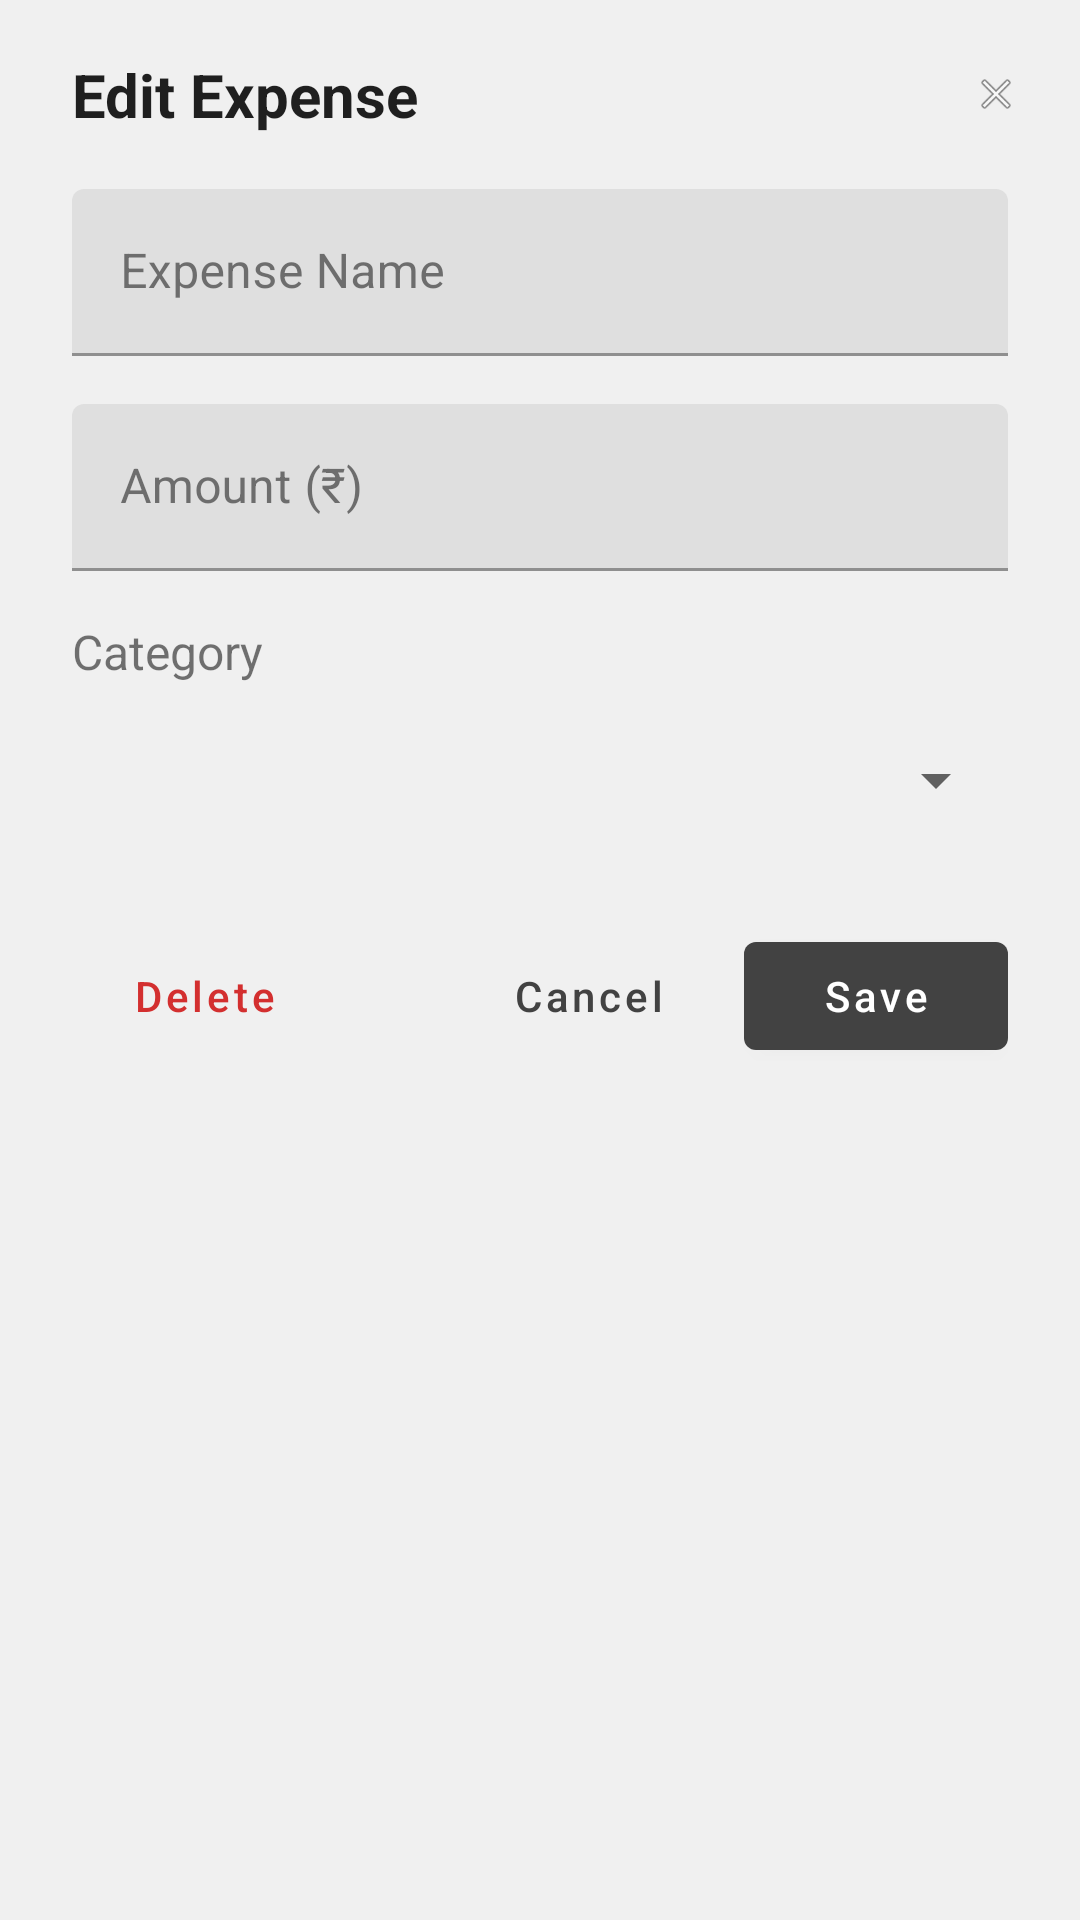

Named icons in this screenshot (1080×1920) and their bounding boxes, box=[x1, y1, x2, y2]:
close clear cancel: box=[981, 79, 1011, 109]
